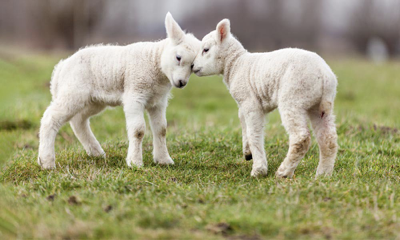koyun: (38, 11, 195, 170), (202, 18, 338, 178)
